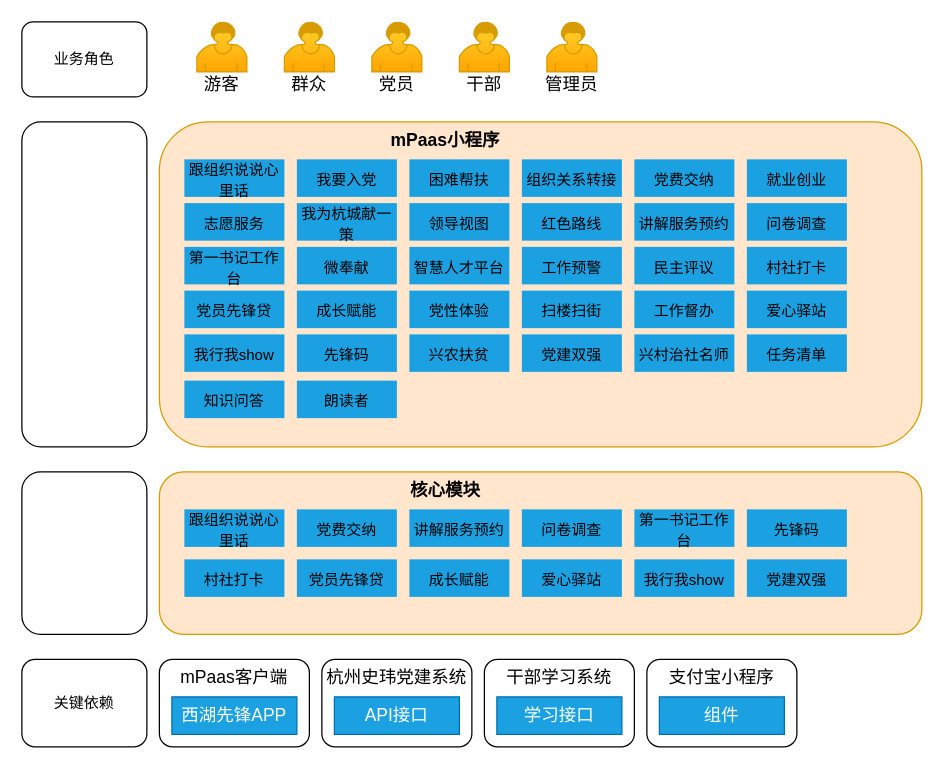
This 944x769 diagram has some shape labels left out. The shapes that lost their labels are listed below. From the top down, each one's centre as x and y in pixels, then its label:
the point at 84,284: 产品能力
the point at 84,552: 核心服务
